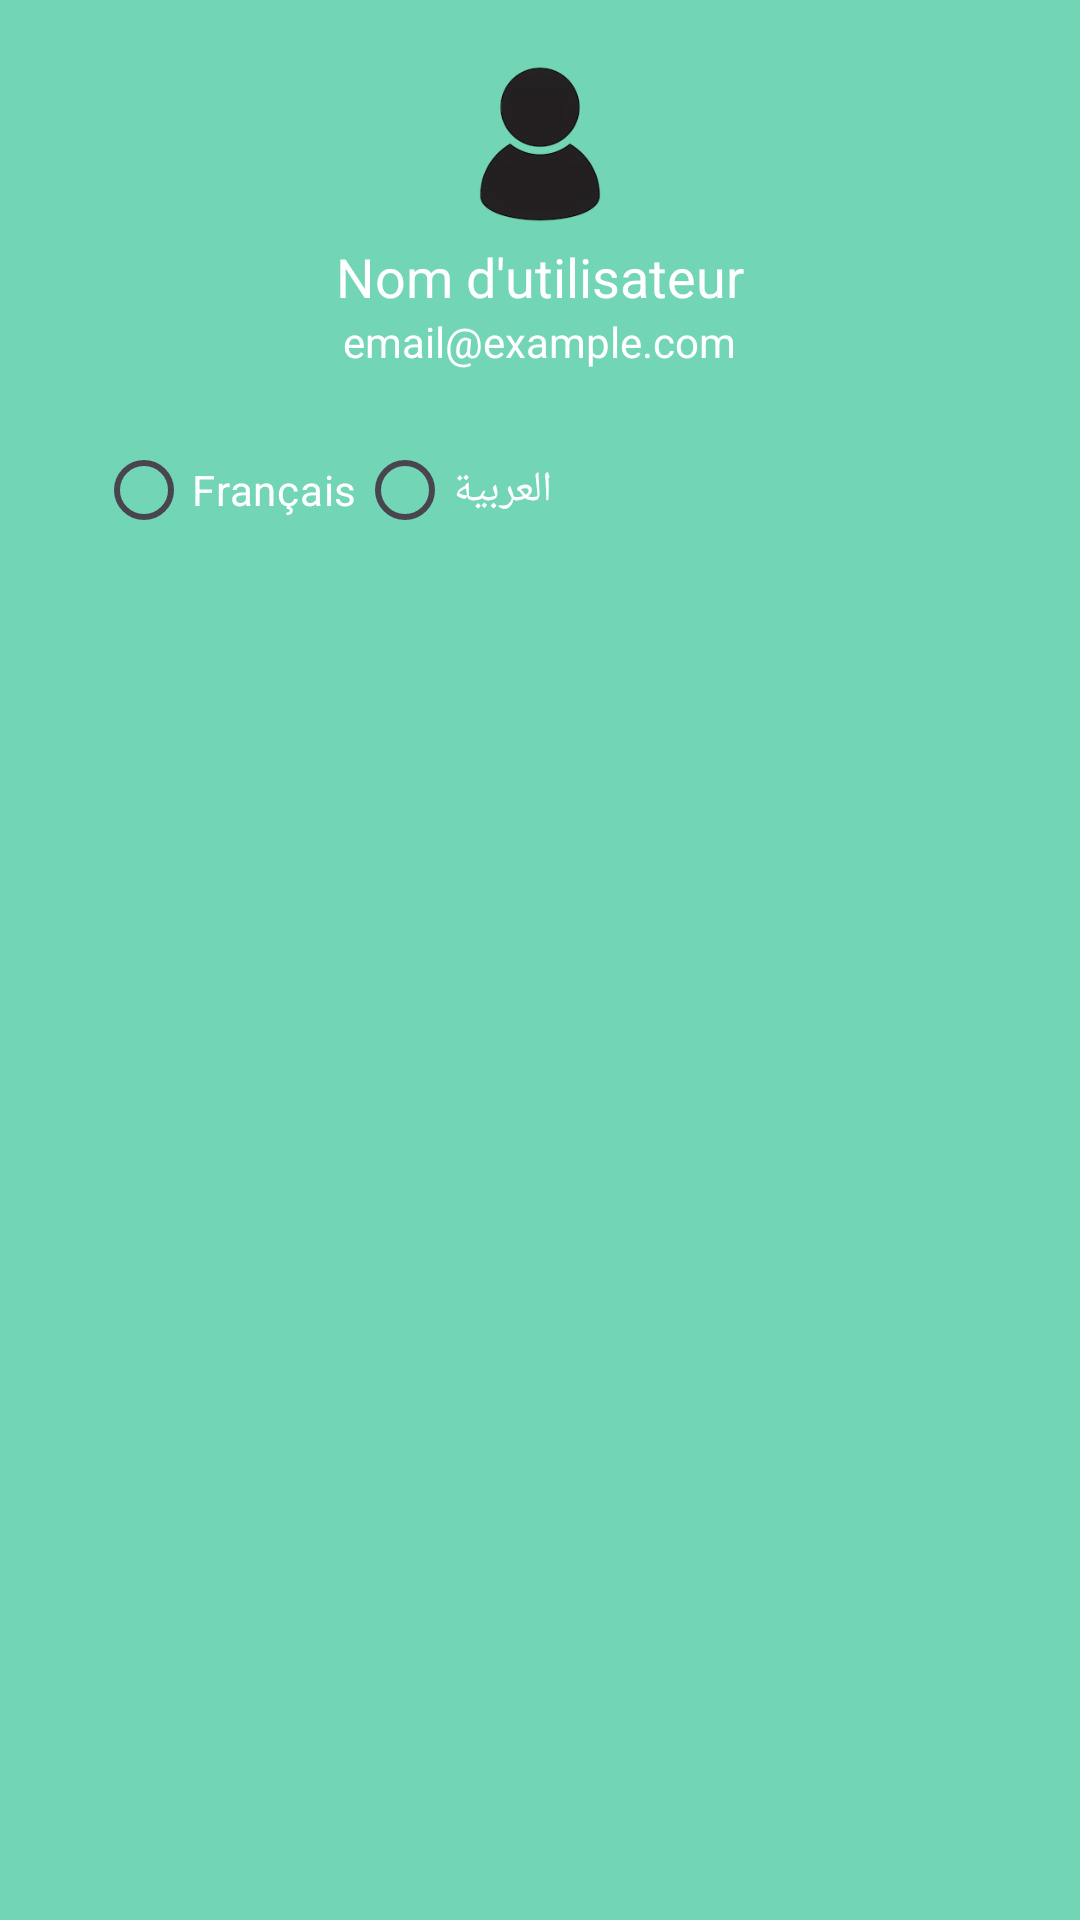

Where icons sit on this 1080x1920 app screen, as box(x1, y1, x2, y2):
profilee: box(480, 67, 600, 221)
